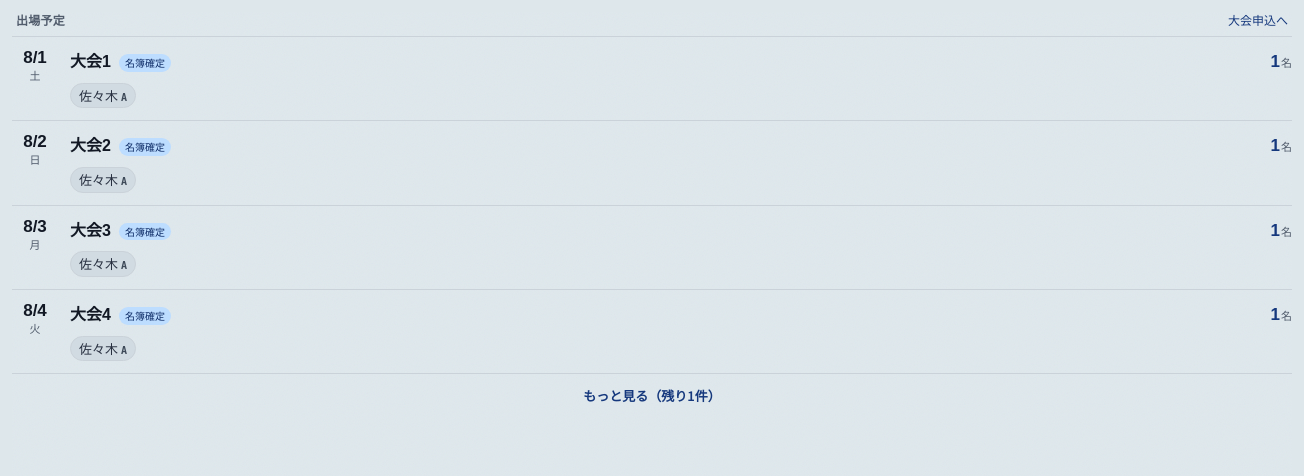
Test: HomeTimeline › もっと見る › 5 件なら初期 4 件 +「もっと見る（残り1件）」、押すと 5 件出てボタンが消える
Expected: the text "大会5" is not shown
Step 1. Click the button "もっと見る（残り1件）" → (652, 396), box [12,374,1292,418]
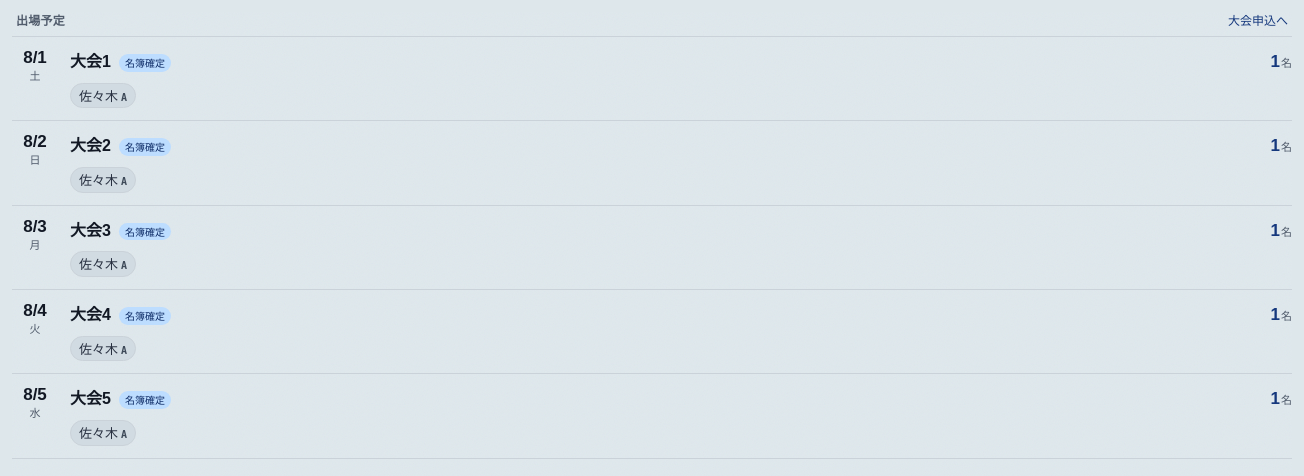
Result: the text "大会5" is shown at [70,387,111,412]
Result: the button "もっと見る（残り1件）" is gone
